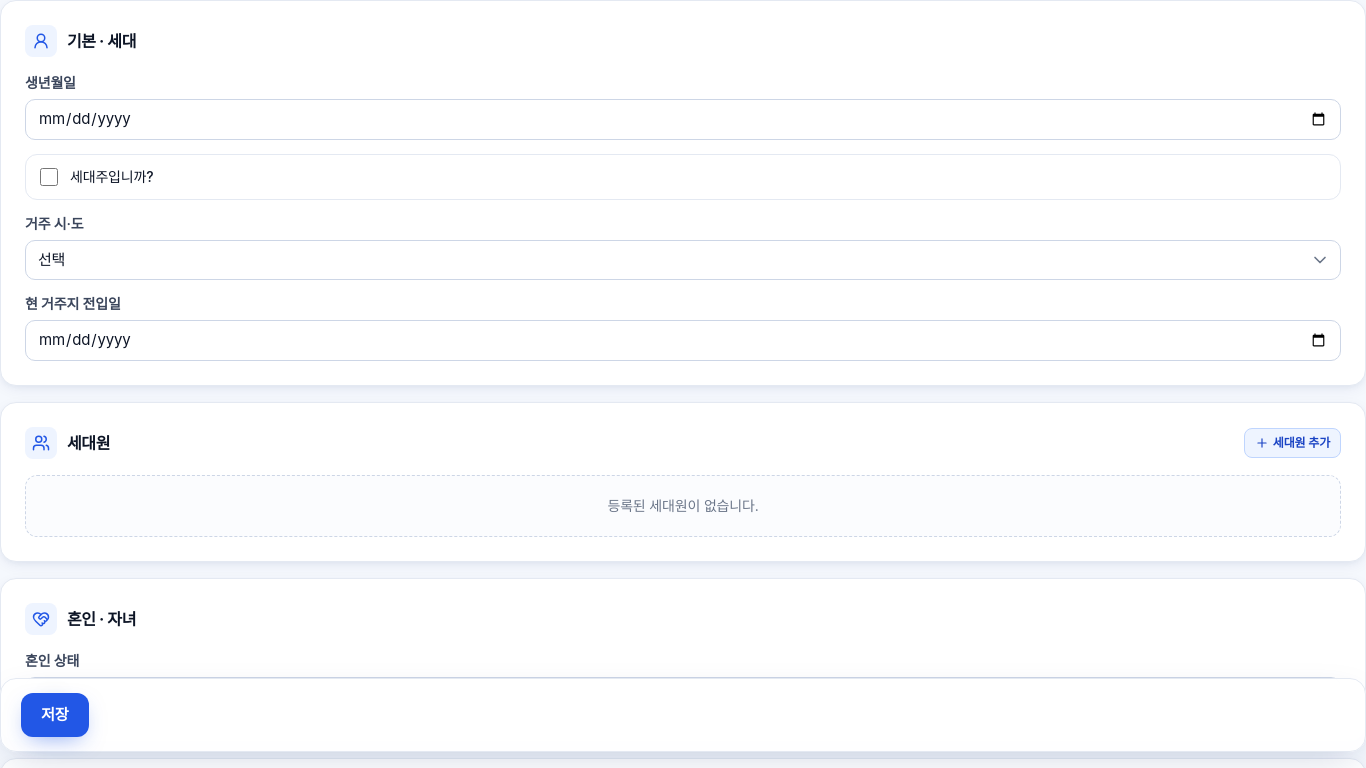
Test: ProfileForm › field 에러가 있으면 안내 문구를 보여준다
Step 1. Click the button "저장" → coordinates (55, 715), box [21,693,89,737]
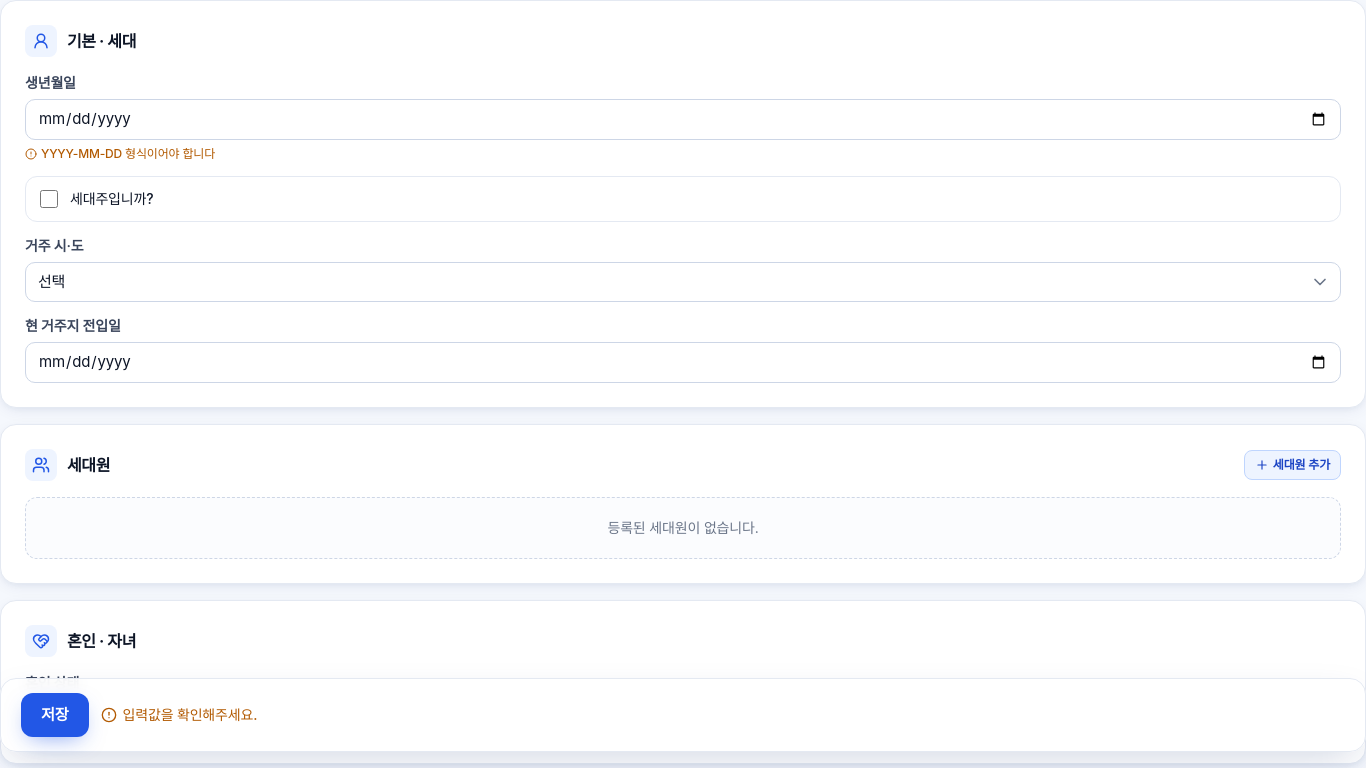
Now the text "입력값을 확인해주세요." is shown, box [101,705,257,725]
